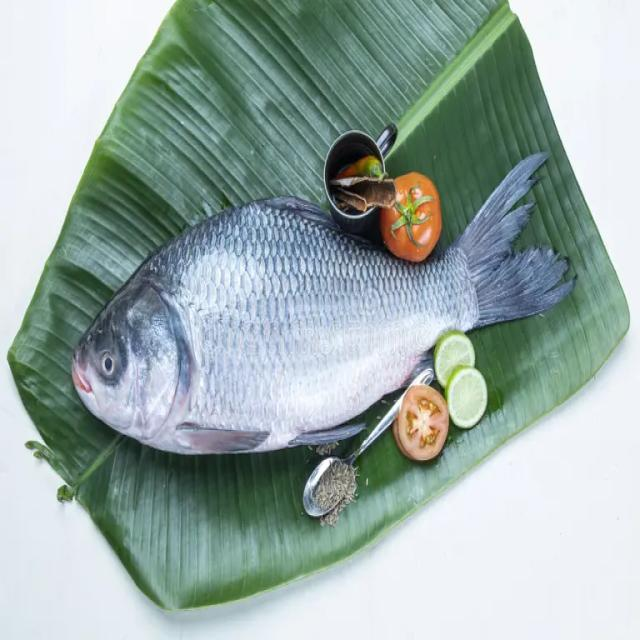Catla: (73, 151, 579, 454)
